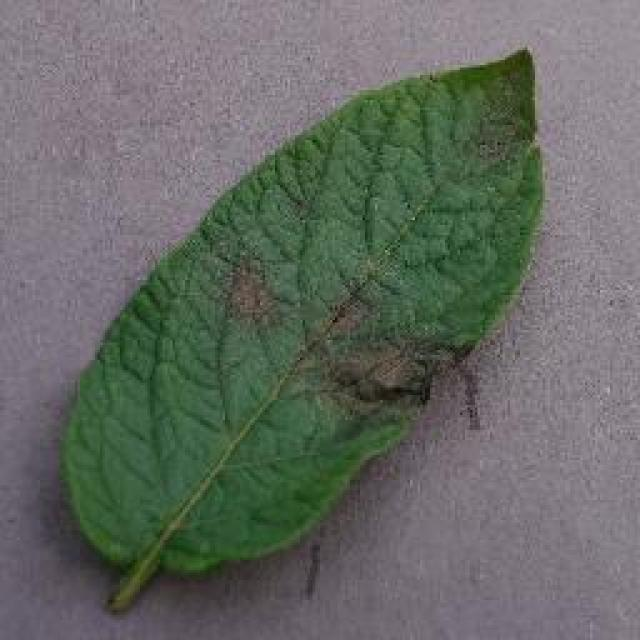late_blight: (55, 40, 550, 610)
